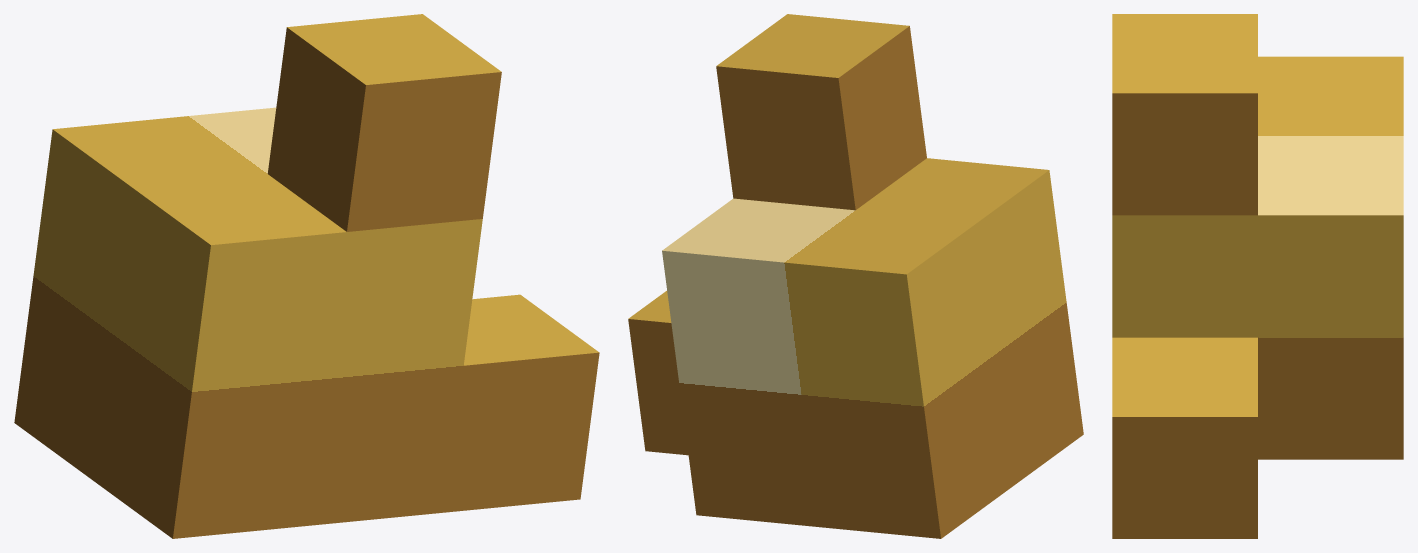
Rendered from gold_nugget.glb.
The picture shows the model from 3 angles, left to right: view 1: azimuth 30°, elevation 25°; view 2: azimuth 150°, elevation 25°; view 3: azimuth 270°, elevation 25°; orthographic projection. The views are drawn at different scales.
Visible parts, largest first — view 1: nugget_core, nugget_peak, nugget_shoulder; view 2: nugget_core, nugget_peak, nugget_shoulder; view 3: nugget_core, nugget_shoulder, nugget_peak.
Part boxes in pixels (x1,y1,x2,y2): nugget_core: [14, 107, 482, 538]; nugget_peak: [267, 14, 501, 231]; nugget_shoulder: [444, 294, 599, 512]; nugget_core: [662, 158, 1083, 538]; nugget_peak: [716, 14, 926, 210]; nugget_shoulder: [628, 291, 688, 455]; nugget_core: [1112, 56, 1403, 459]; nugget_shoulder: [1112, 337, 1257, 538]; nugget_peak: [1112, 14, 1257, 215].
Size of the model in its own units: 3.11 by 3.25 by 2.
Materials: 1 (1 with a texture image).
